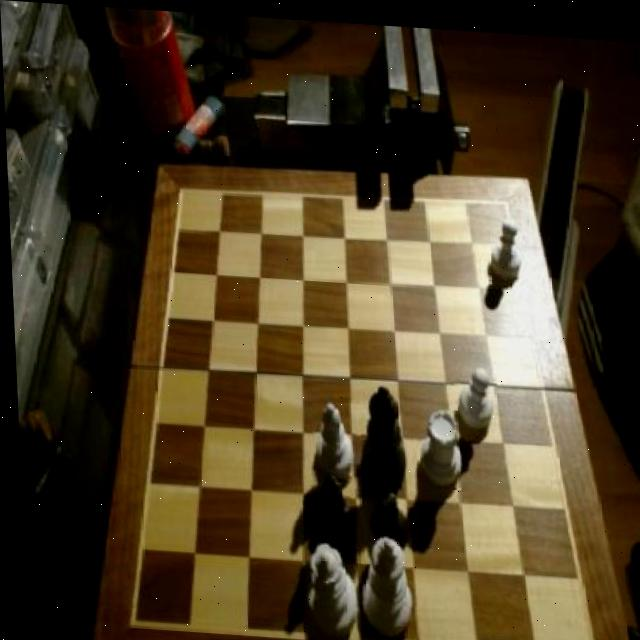bishop: (305, 467, 358, 556)
black-bishop: (356, 378, 403, 481)
black-knight: (367, 485, 408, 551)
black-rook: (310, 396, 356, 478)
white-bishop: (353, 527, 416, 631)
white-knight: (452, 360, 496, 428), (482, 211, 523, 276)
white-pawn: (300, 535, 360, 633)
white-queen: (412, 402, 463, 485)
